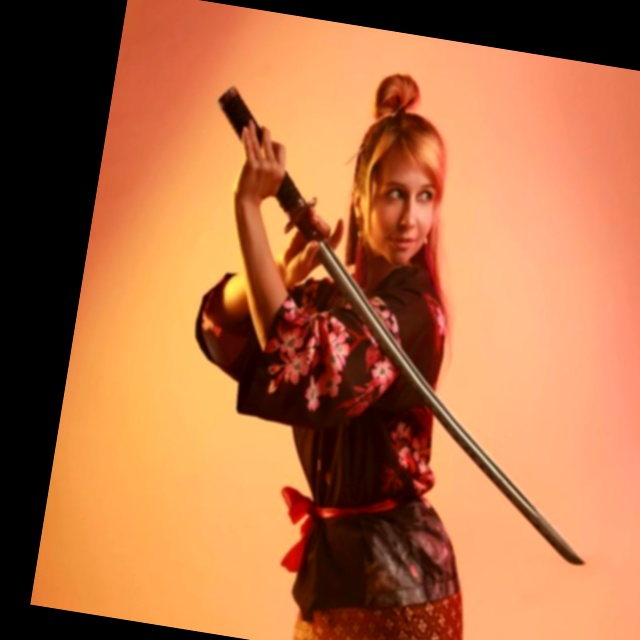Sharp-Object: (144, 86, 640, 589)
